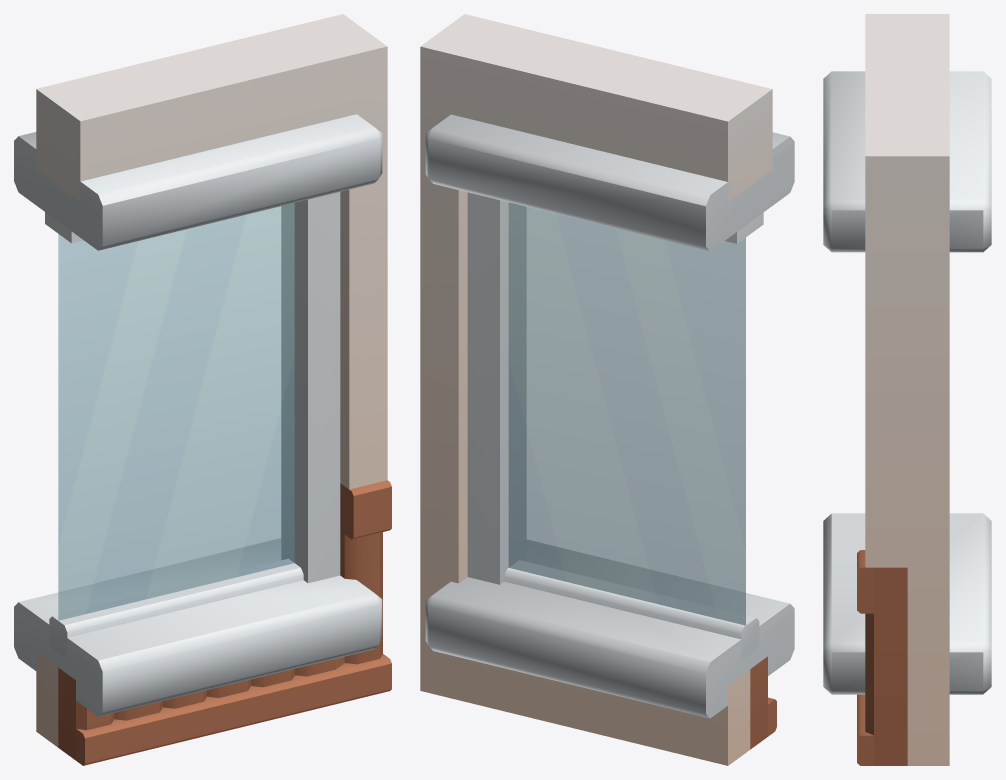
Rendered from wall-panelled-bakery-window-full-right.glb.
3 views of the same model, side by side, from view 1: azimuth 30°, elevation 25°; view 2: azimuth 150°, elevation 25°; view 3: azimuth 270°, elevation 25° (orthographic). The views are drawn at different scales.
Parts seen in each view (by area): view 1: wall_panelled_bakery_window_full_right; view 2: wall_panelled_bakery_window_full_right; view 3: wall_panelled_bakery_window_full_right.
Part boxes in pixels (left/top/right/bottom): wall_panelled_bakery_window_full_right: left=14, top=14, right=391, bottom=765; wall_panelled_bakery_window_full_right: left=420, top=14, right=794, bottom=765; wall_panelled_bakery_window_full_right: left=823, top=14, right=991, bottom=765.
Bounding box in the file's own units: 2 × 4 × 1.
2 materials, 2 textured.
